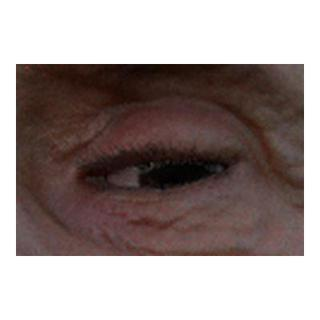pupil: (161, 163, 194, 195)
